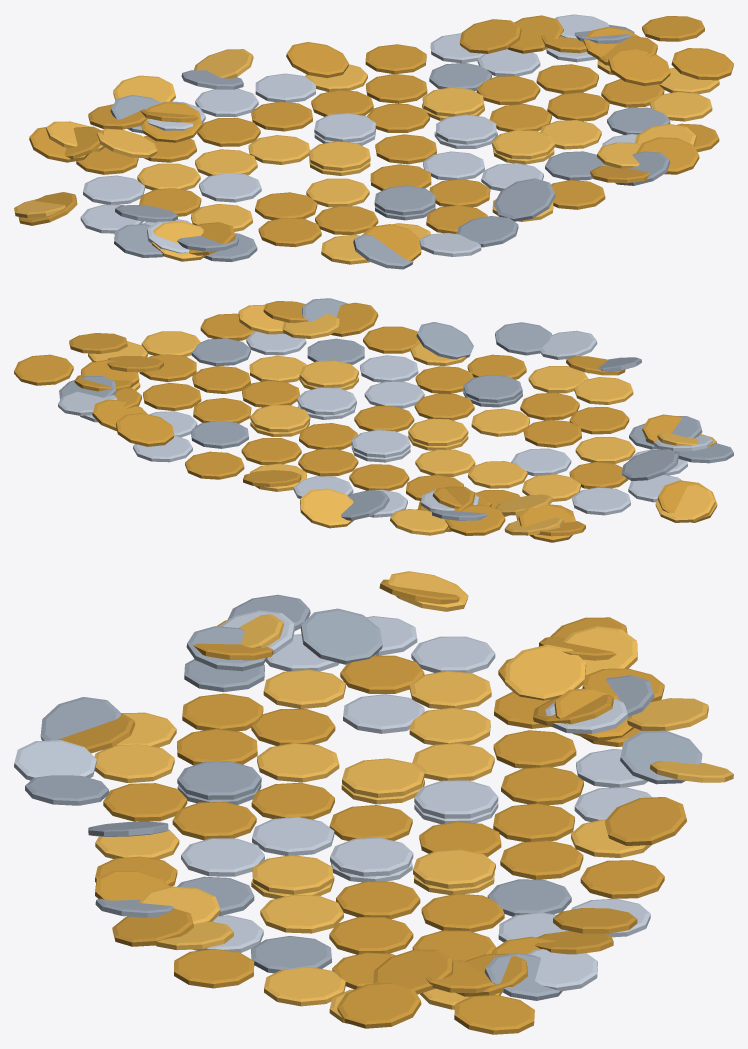
The model's file is CoinScatter.fbx.
3 views of the same model, one above another, from view 1: azimuth 30°, elevation 25°; view 2: azimuth 150°, elevation 25°; view 3: azimuth 270°, elevation 25° (orthographic). The views are drawn at different scales.
Parts seen in each view (by area): view 1: CoinScatter; view 2: CoinScatter; view 3: CoinScatter.
Boxes of the visible parts, x1,y1,x2,y2 form: CoinScatter: (14,14,733,269); CoinScatter: (14,298,733,542); CoinScatter: (14,571,733,1034).
Size of the model in its own units: 90.3 by 2.83 by 59.9.
